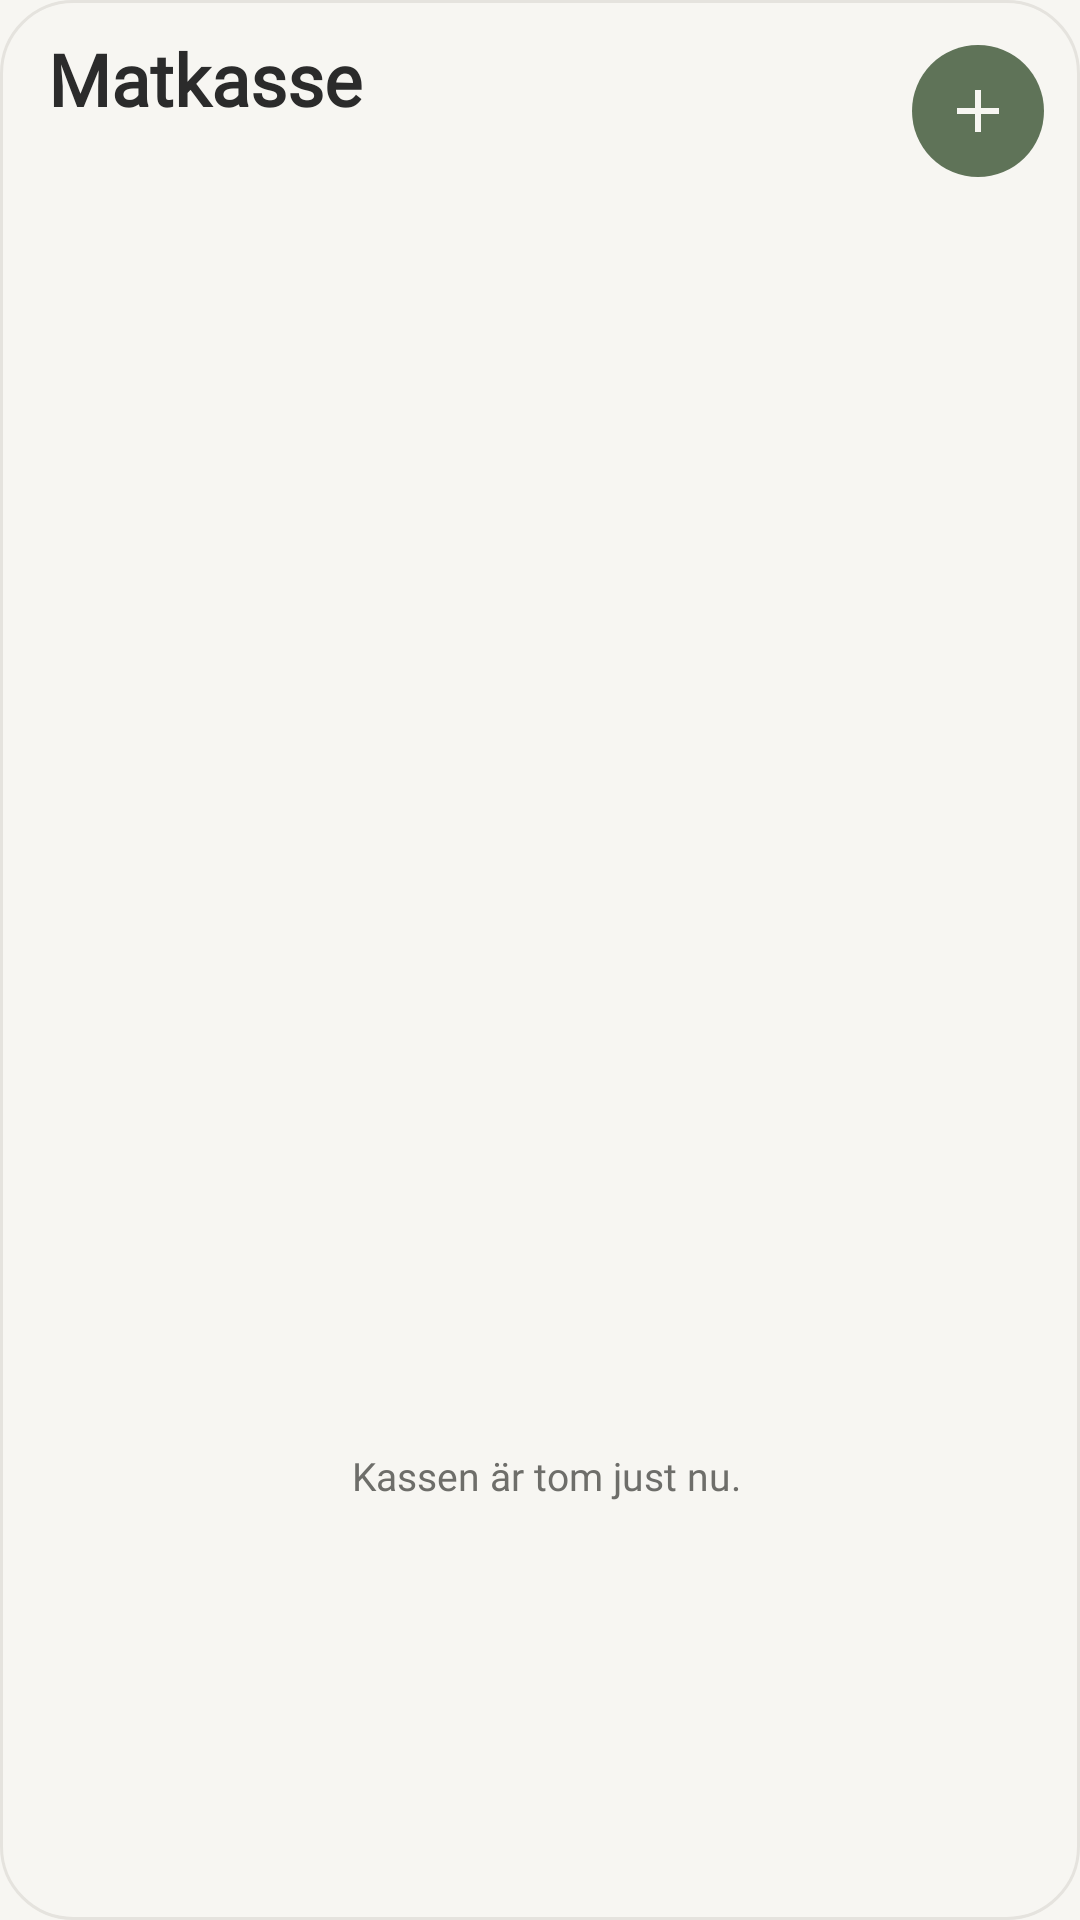

Screen size 1080 × 1920. Icon name, then its box in pixels as (x1, y1, x2, y2):
Lägg till i Matkassen: (912, 45, 1044, 177)
